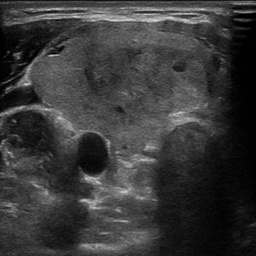mass: (31, 30, 210, 122)
